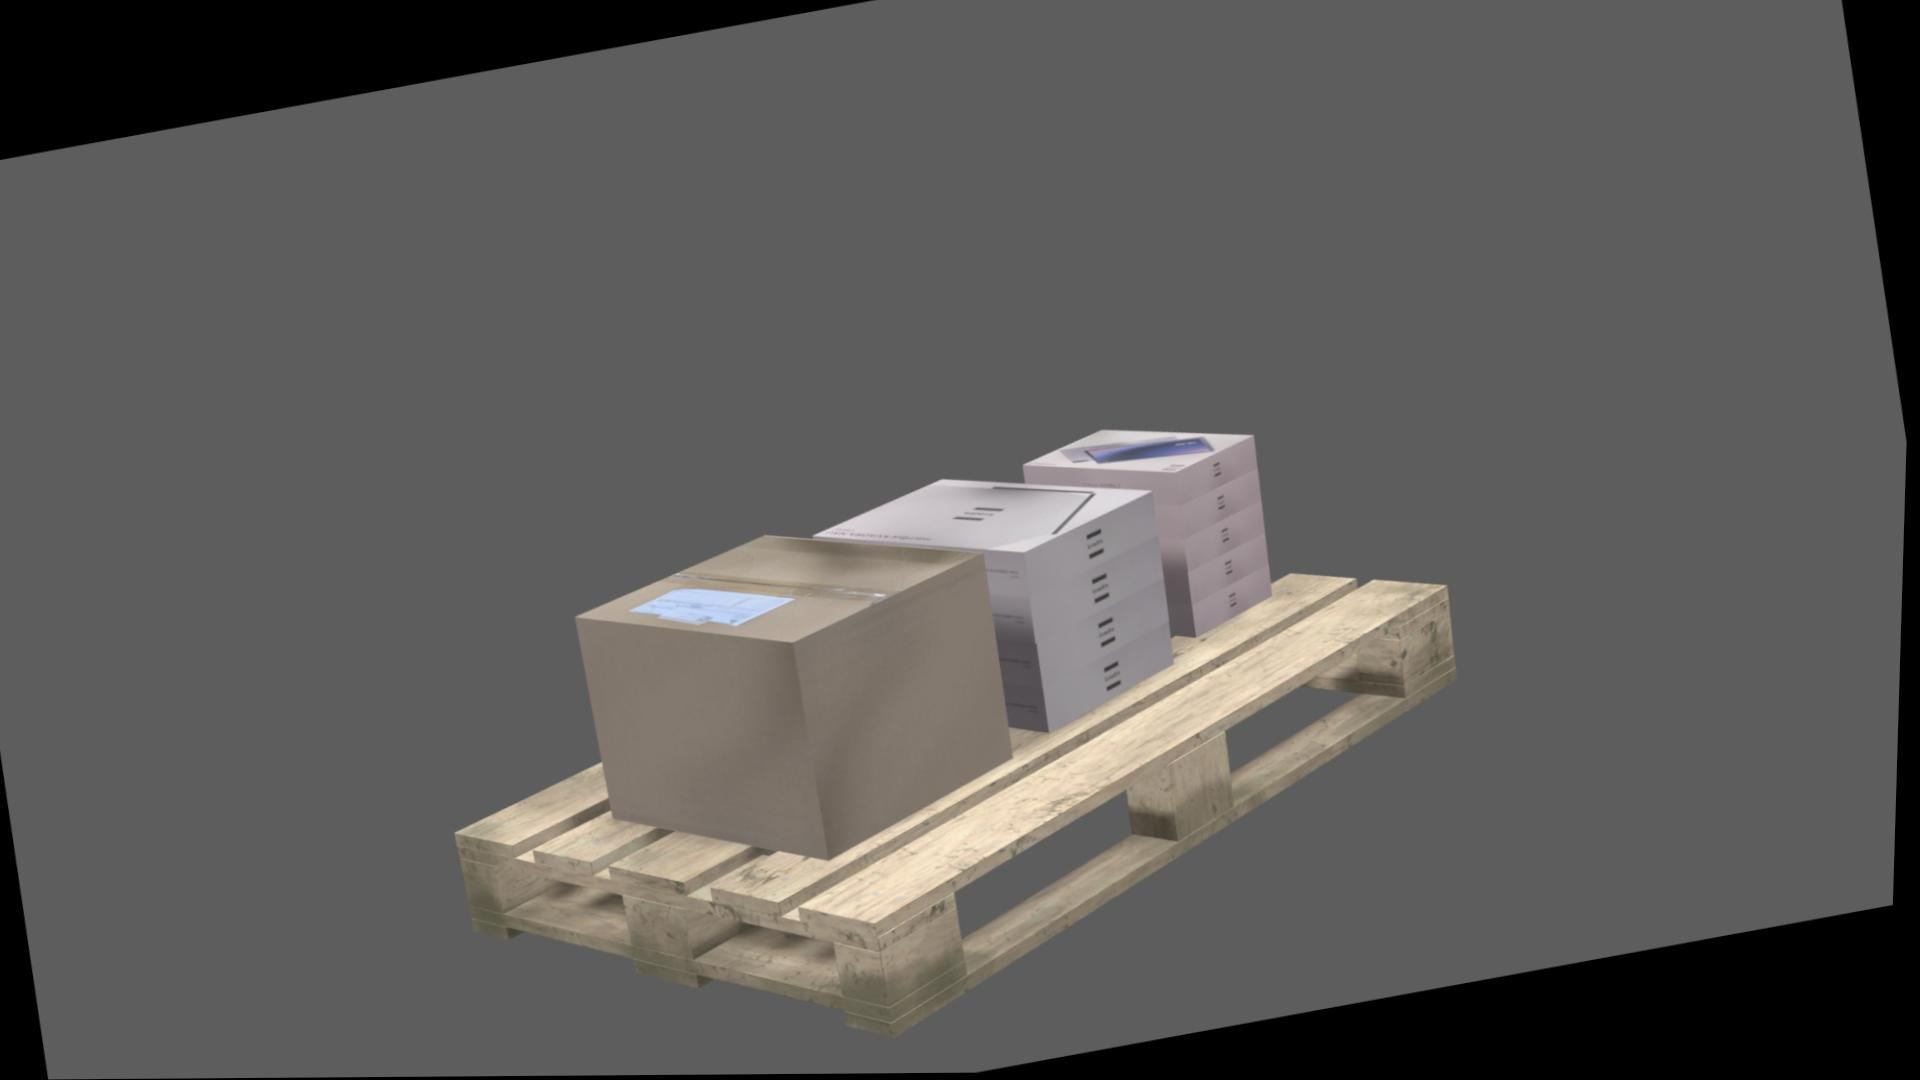group_box_left: (580, 555, 1019, 862)
group_box_top: (582, 535, 985, 644)
laptop_left: (1011, 626, 1182, 736), (996, 539, 1170, 645), (1000, 583, 1172, 688), (990, 495, 1162, 599)
laptop_top: (819, 481, 1154, 554)
palet: (459, 574, 1462, 1043)
tablet_left: (1027, 438, 1261, 506), (1159, 471, 1265, 541), (1175, 568, 1276, 640), (1166, 504, 1267, 574), (1172, 537, 1271, 607)
tablet_top: (1027, 433, 1254, 475)
